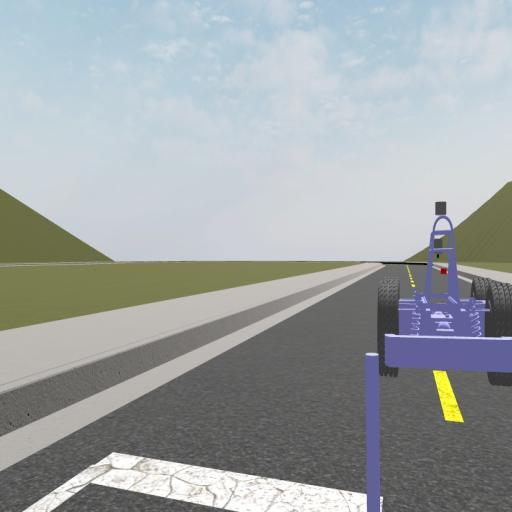ERP-42: (375, 200, 512, 388)
